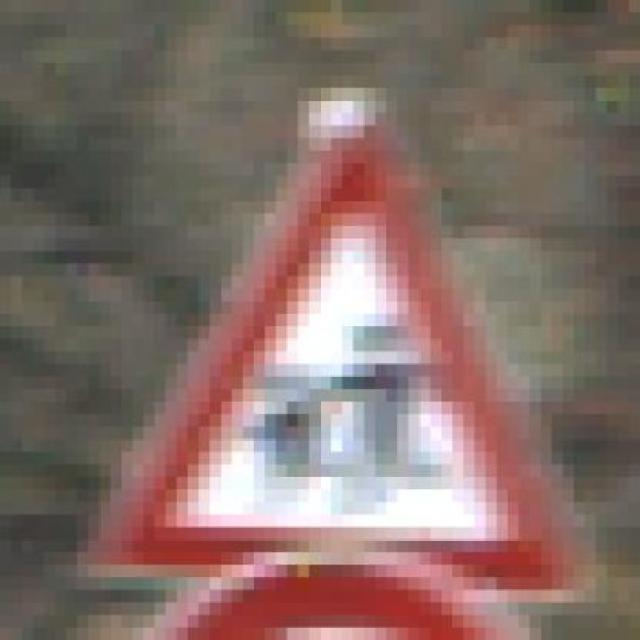Beware of children: (90, 95, 587, 598)
